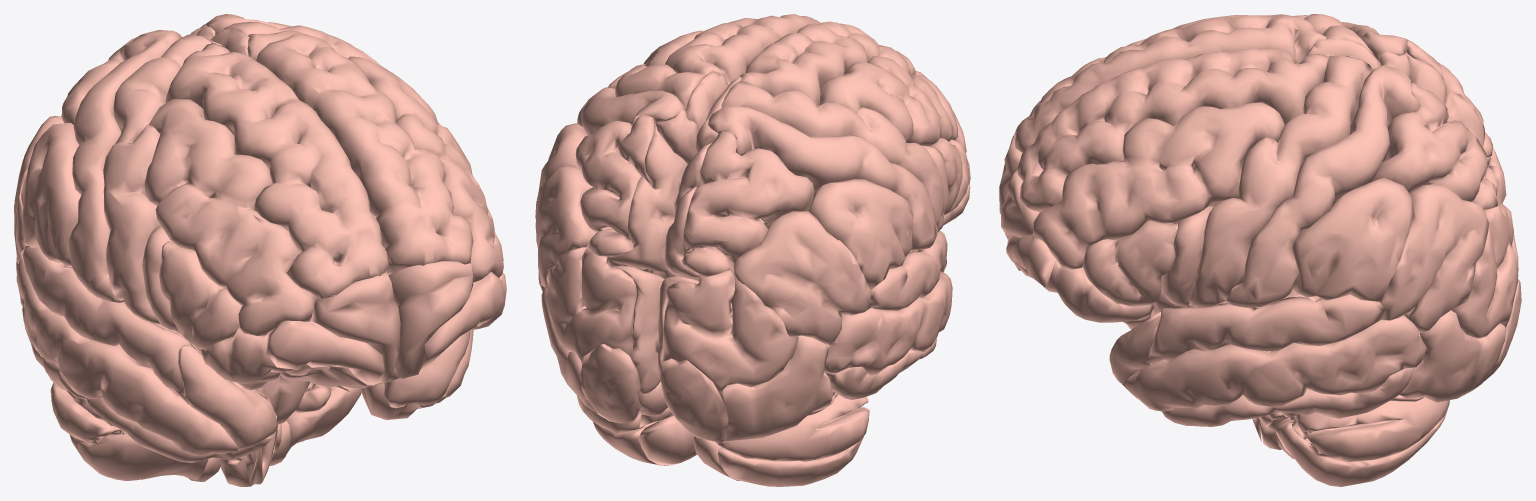
The model's file is 3d-allen-m-brain_lod_20.glb.
The picture shows the model from 3 angles, left to right: view 1: azimuth 30°, elevation 25°; view 2: azimuth 150°, elevation 25°; view 3: azimuth 270°, elevation 25°; orthographic projection. The views are drawn at different scales.
Visible parts, largest first — view 1: Allen_superior_frontal_gyrus_L, Allen_middle_frontal_gyrus_L, Allen_superior_frontal_gyrus_R, Allen_middle_temporal_gyrus_L, Allen_primary_motor_cortex_L, Allen_postcentral_gyrus_L, Allen_superior_temporal_gyrus_L, Allen_middle_frontal_gyrus_R, Allen_supramarginal_gyrus_L, Allen_rostral_gyrus_R, Allen_lateral_hemisphere_of_cerebellum_L, Allen_inferior_frontal_gyrus_triangular_part_L (+19 smaller); view 2: Allen_angular_gyrus_L, Allen_supraparietal_lobule_L, Allen_superior_occipital_gyrus_L, Allen_postcentral_gyrus_L, Allen_lateral_hemisphere_of_cerebellum_L, Allen_superior_occipital_gyrus_R, Allen_supraparietal_lobule_R, Allen_primary_motor_cortex_L, Allen_supramarginal_gyrus_L, Allen_middle_frontal_gyrus_L, Allen_superior_frontal_gyrus_L, Allen_inferior_occipital_gyrus_L (+24 smaller); view 3: Allen_middle_frontal_gyrus_R, Allen_superior_frontal_gyrus_R, Allen_middle_temporal_gyrus_R, Allen_primary_motor_cortex_R, Allen_postcentral_gyrus_R, Allen_supramarginal_gyrus_R, Allen_angular_gyrus_R, Allen_superior_temporal_gyrus_R, Allen_lateral_hemisphere_of_cerebellum_R, Allen_superior_frontal_gyrus_L, Allen_supraparietal_lobule_R, Allen_inferior_frontal_gyrus_triangular_part_R (+16 smaller).
Part boxes in pixels (x1,y1,x2,y2): Allen_superior_frontal_gyrus_L: (165, 43, 388, 301); Allen_middle_frontal_gyrus_L: (144, 99, 316, 335); Allen_superior_frontal_gyrus_R: (247, 31, 473, 273); Allen_middle_temporal_gyrus_L: (16, 260, 239, 455); Allen_primary_motor_cortex_L: (103, 34, 211, 324); Allen_postcentral_gyrus_L: (68, 30, 181, 302); Allen_superior_temporal_gyrus_L: (21, 246, 195, 405); Allen_middle_frontal_gyrus_R: (348, 56, 503, 282); Allen_supramarginal_gyrus_L: (21, 123, 81, 265); Allen_rostral_gyrus_R: (388, 260, 473, 378); Allen_lateral_hemisphere_of_cerebellum_L: (50, 382, 208, 480); Allen_inferior_frontal_gyrus_triangular_part_L: (159, 241, 241, 350); Allen_angular_gyrus_L: (734, 211, 871, 343); Allen_supraparietal_lobule_L: (681, 131, 814, 276); Allen_superior_occipital_gyrus_L: (662, 269, 798, 394); Allen_postcentral_gyrus_L: (708, 106, 938, 251); Allen_lateral_hemisphere_of_cerebellum_L: (717, 394, 869, 486); Allen_superior_occipital_gyrus_R: (546, 245, 637, 365); Allen_supraparietal_lobule_R: (575, 114, 655, 256); Allen_primary_motor_cortex_L: (721, 81, 944, 231); Allen_supramarginal_gyrus_L: (808, 179, 913, 289); Allen_middle_frontal_gyrus_L: (819, 56, 966, 152); Allen_superior_frontal_gyrus_L: (740, 21, 926, 106); Allen_inferior_occipital_gyrus_L: (720, 335, 837, 442); Allen_middle_frontal_gyrus_R: (1033, 102, 1284, 269); Allen_superior_frontal_gyrus_R: (1017, 48, 1328, 212); Allen_middle_temporal_gyrus_R: (1122, 315, 1425, 411); Allen_primary_motor_cortex_R: (1188, 55, 1372, 307); Allen_postcentral_gyrus_R: (1225, 65, 1420, 307); Allen_supramarginal_gyrus_R: (1291, 178, 1413, 301); Allen_angular_gyrus_R: (1380, 184, 1488, 332); Allen_superior_temporal_gyrus_R: (1149, 294, 1386, 365); Allen_lateral_hemisphere_of_cerebellum_R: (1268, 397, 1449, 486); Allen_superior_frontal_gyrus_L: (1014, 14, 1326, 152); Allen_supraparietal_lobule_R: (1371, 82, 1497, 209); Allen_inferior_frontal_gyrus_triangular_part_R: (1082, 220, 1177, 306).
Bounding box in the file's own units: 0.136 × 0.1458 × 0.167.
